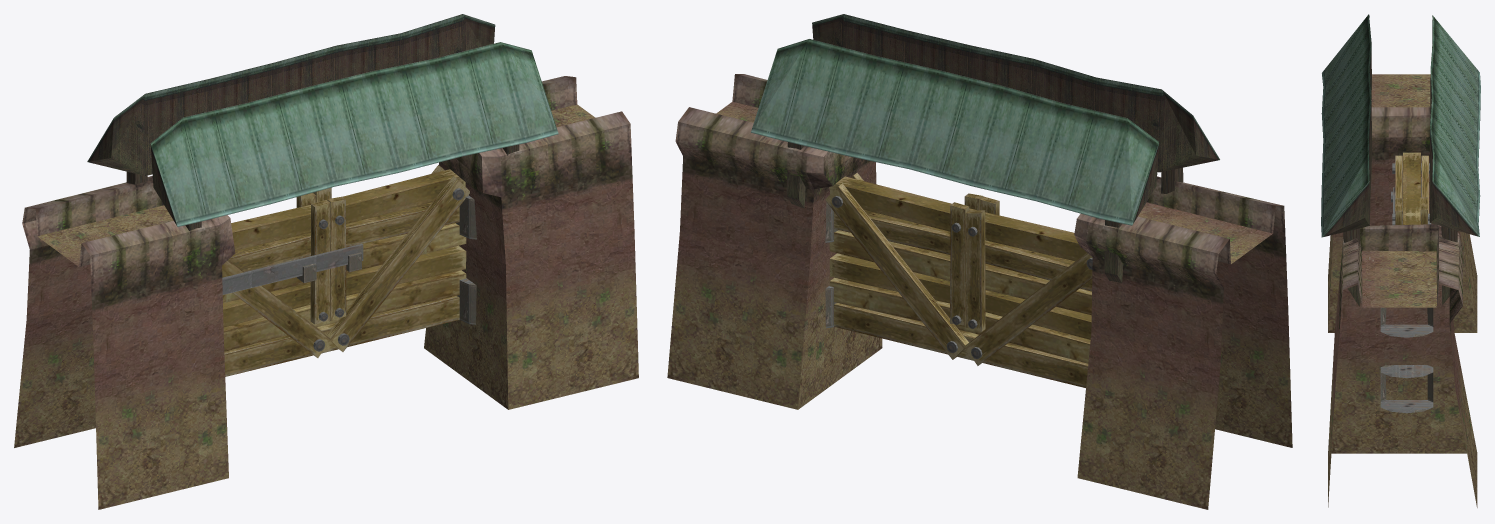
Rendered from C1SMGIANTGATE_CENTRE.obj.
3 renders of one model, left to right at view 1: azimuth 30°, elevation 25°; view 2: azimuth 150°, elevation 25°; view 3: azimuth 270°, elevation 25°, orthographic. The views are drawn at different scales.
Parts seen in each view (by area): view 1: Node 0; view 2: Node 0; view 3: Node 0.
Part boxes in pixels (bbox=[...]): Node 0: bbox=[14, 14, 638, 509]; Node 0: bbox=[667, 14, 1292, 509]; Node 0: bbox=[1321, 14, 1480, 507].
Size of the model in its own units: 22.14 by 13.67 by 6.41.
5 materials, 5 textured.
